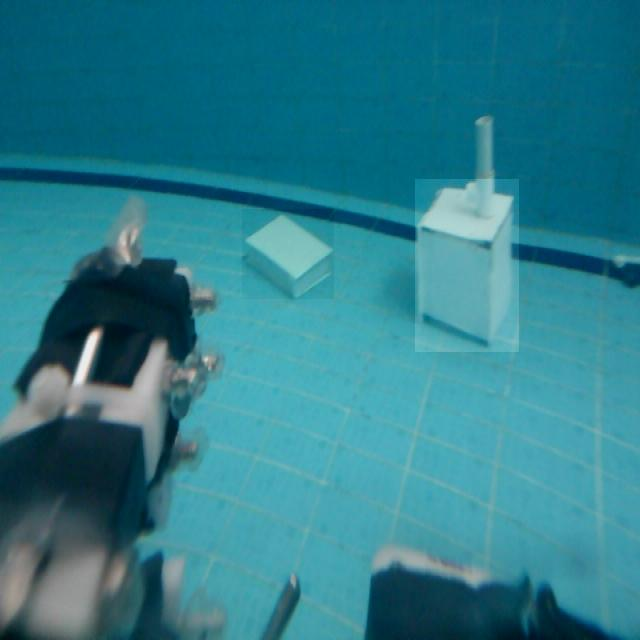Cube: (415, 179, 519, 352)
Cuboid: (242, 209, 334, 299)
